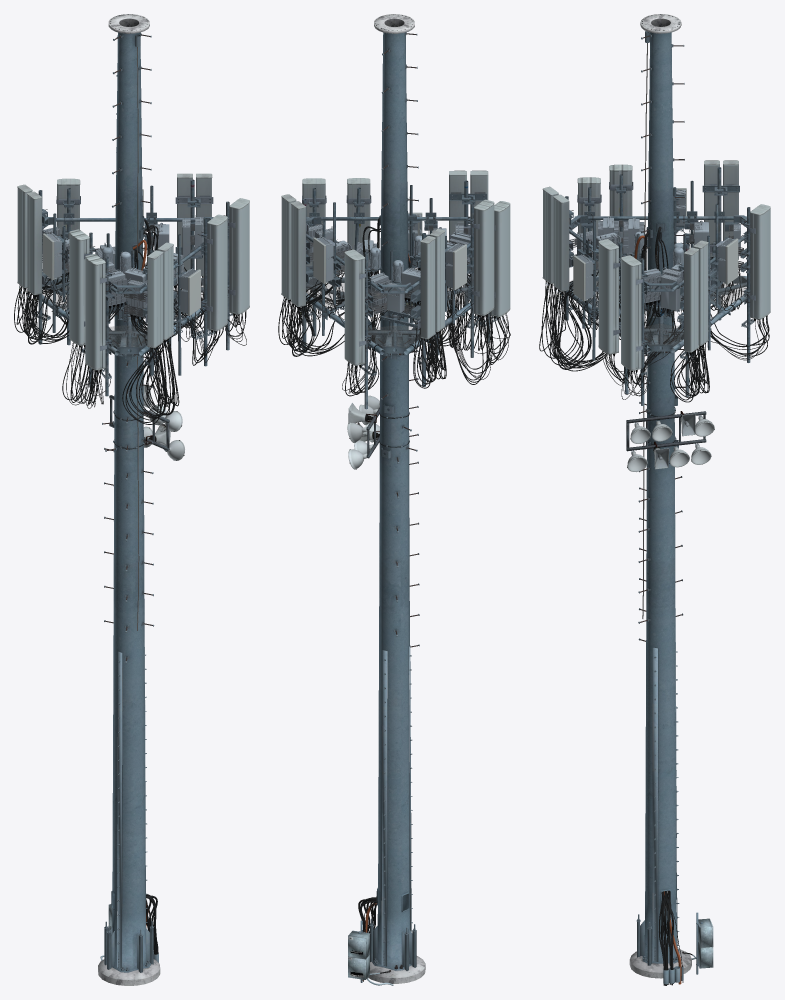
Rendered from SITX024649.glb.
The picture shows the model from 3 angles, left to right: view 1: azimuth 30°, elevation 25°; view 2: azimuth 150°, elevation 25°; view 3: azimuth 270°, elevation 25°; orthographic projection.
Visible parts, largest first — view 1: polySurface9, polySurface8, Skrew_02, Cellular_Antenna_11, Cellular_Antenna_02, Cellular_Antenna_01, Cellular_Antenna_10, InnerPart_04, InnerPart_03, Cellular_Antenna_09, Cellular_Antenna_07, Cellular_Antenna_06 (+7 smaller); view 2: polySurface9, Skrew_02, polySurface8, Cellular_Antenna_10, Cellular_Antenna_05, InnerPart_04, Cellular_Antenna_11, polySurface9.001, InnerPart_03, Cellular_Antenna_06, Cellular_Antenna_04, Cellular_Antenna_03 (+6 smaller); view 3: polySurface9, Skrew_02, polySurface8, Cellular_Antenna_01, Cellular_Antenna_05, Cellular_Antenna_02, InnerPart_04, InnerPart_03, Cellular_Antenna_08, Cellular_Antenna_03, polySurface9.001, Cellular_Antenna_04 (+8 smaller).
Part boxes in pixels (<box>): polySurface9: <box>36,14,229,985</box>; polySurface8: <box>19,33,249,971</box>; Skrew_02: <box>17,34,239,967</box>; Cellular_Antenna_11: <box>85,254,105,369</box>; Cellular_Antenna_02: <box>229,198,249,313</box>; Cellular_Antenna_01: <box>207,214,227,329</box>; Cellular_Antenna_10: <box>69,229,89,344</box>; InnerPart_04: <box>42,198,229,352</box>; InnerPart_03: <box>42,34,229,354</box>; Cellular_Antenna_09: <box>147,250,163,347</box>; Cellular_Antenna_07: <box>27,191,41,294</box>; Cellular_Antenna_06: <box>17,184,32,287</box>; polySurface9: <box>302,14,489,983</box>; Skrew_02: <box>281,32,506,968</box>; polySurface8: <box>283,65,510,969</box>; Cellular_Antenna_10: <box>473,199,494,314</box>; Cellular_Antenna_05: <box>344,249,365,364</box>; InnerPart_04: <box>306,192,485,347</box>; Cellular_Antenna_11: <box>490,201,510,315</box>; polySurface9.001: <box>306,276,470,347</box>; InnerPart_03: <box>306,195,484,350</box>; Cellular_Antenna_06: <box>420,236,435,338</box>; Cellular_Antenna_04: <box>291,201,305,306</box>; Cellular_Antenna_03: <box>281,194,296,299</box>; polySurface9: <box>564,14,747,984</box>; Skrew_02: <box>547,44,763,961</box>; polySurface8: <box>542,33,770,980</box>; Cellular_Antenna_01: <box>598,239,618,353</box>; Cellular_Antenna_05: <box>750,204,770,318</box>; Cellular_Antenna_02: <box>621,255,641,369</box>; InnerPart_04: <box>569,184,750,353</box>; InnerPart_03: <box>569,31,750,355</box>; Cellular_Antenna_08: <box>553,194,569,290</box>; Cellular_Antenna_03: <box>684,247,698,351</box>; polySurface9.001: <box>569,275,746,345</box>; Cellular_Antenna_04: <box>693,240,708,344</box>.
Bounding box in the file's own units: 3.67 × 18.04 × 3.98.
Materials: 7 (7 with a texture image).
